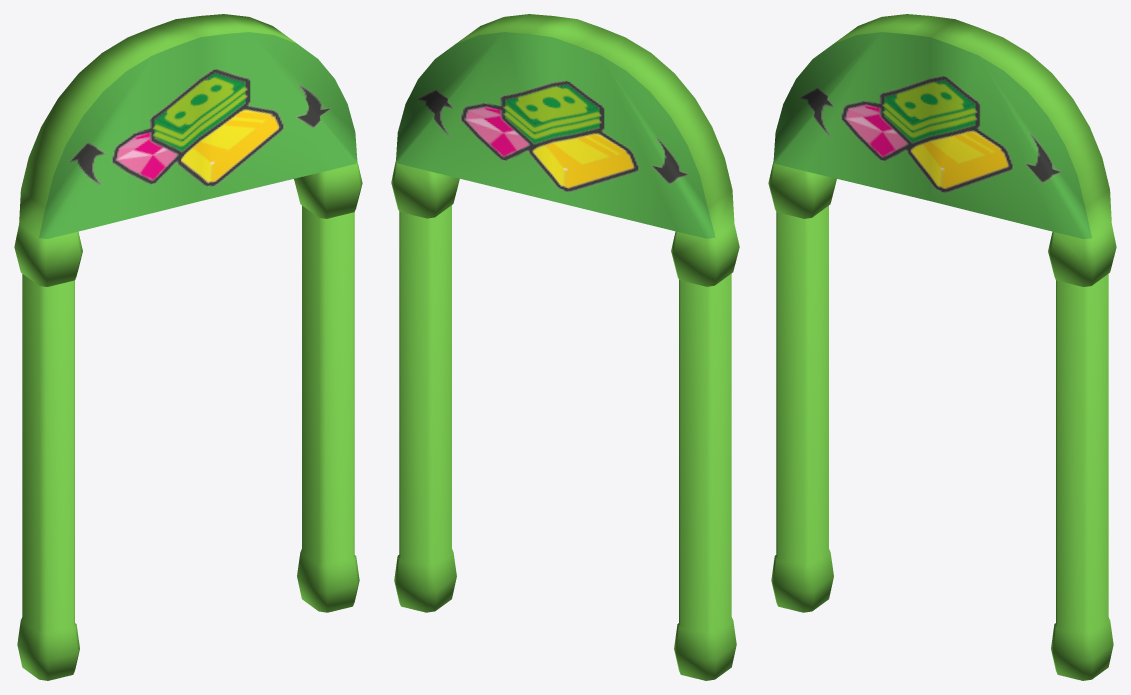
File: money_gate_R.fbx
3 views of the same model, side by side, from view 1: azimuth 30°, elevation 25°; view 2: azimuth 150°, elevation 25°; view 3: azimuth 330°, elevation 25° (orthographic).
Parts seen in each view (by area): view 1: Gate; view 2: Gate; view 3: Gate.
Boxes of the visible parts, x1=… form: Gate: x1=14, y1=14, x2=362, y2=680; Gate: x1=391, y1=14, x2=739, y2=680; Gate: x1=768, y1=14, x2=1116, y2=680.
Size of the model in its own units: 256 by 455 by 38.87.
Materials: 2 (1 with a texture image).
